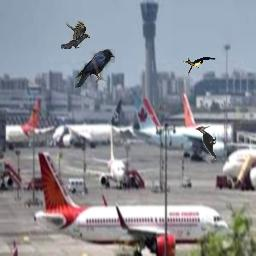Crow: (75, 49, 115, 88), (61, 21, 90, 49)
Swallow: (177, 55, 217, 75)
Woodpecker: (194, 126, 216, 160)
